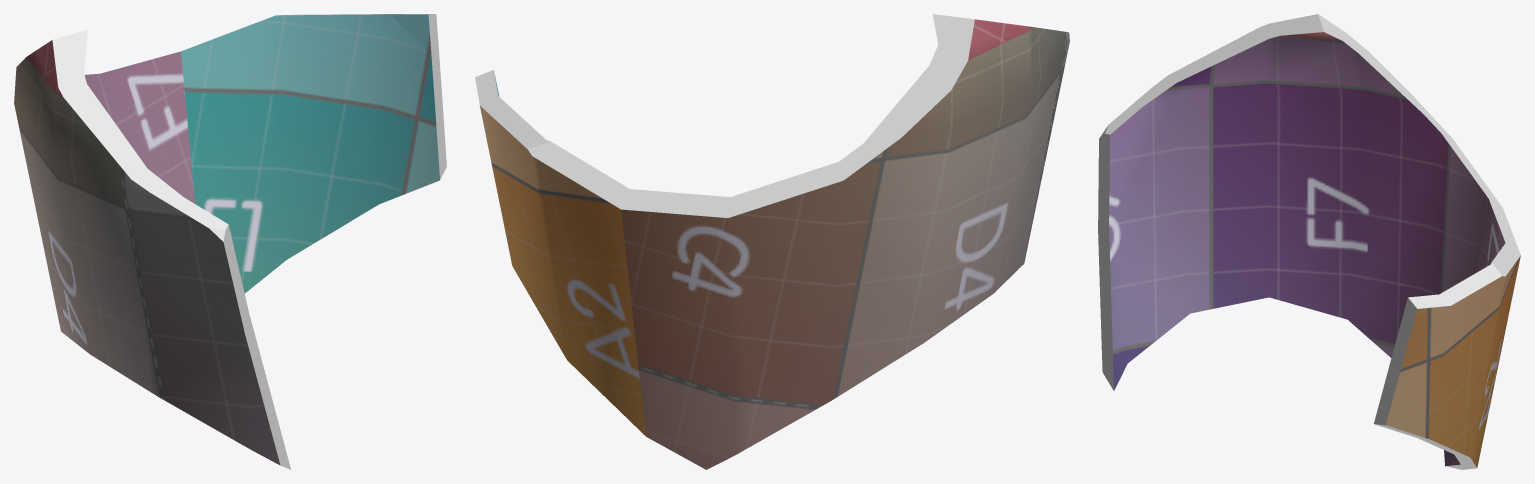
The model's file is MediumVase_SHAT_cell_001.fbx.
3 renders of one model, left to right at view 1: azimuth 30°, elevation 25°; view 2: azimuth 150°, elevation 25°; view 3: azimuth 270°, elevation 25°, orthographic. The views are drawn at different scales.
Parts seen in each view (by area): view 1: MediumVase_SHAT_cell_001; view 2: MediumVase_SHAT_cell_001; view 3: MediumVase_SHAT_cell_001.
Part boxes in pixels (<box>): MediumVase_SHAT_cell_001: <box>14,14,446,469</box>; MediumVase_SHAT_cell_001: <box>475,14,1069,469</box>; MediumVase_SHAT_cell_001: <box>1098,14,1520,469</box>.
Size of the model in its own units: 0.9731 by 0.8591 by 0.8723.
Materials: 2 (1 with a texture image).
